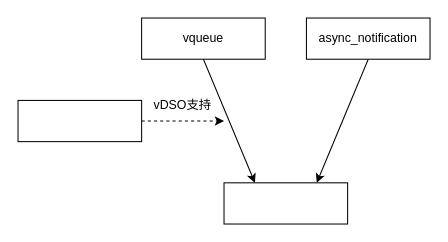
Some shapes in this 448 by 242 pixel diagram are drawn without their labels. The shapes that lost their labels are listed below. From the top down, each one's centre as x and y in pixels, then its label:
[79,120]: vdso_crate_template
[285,203]: vipc
